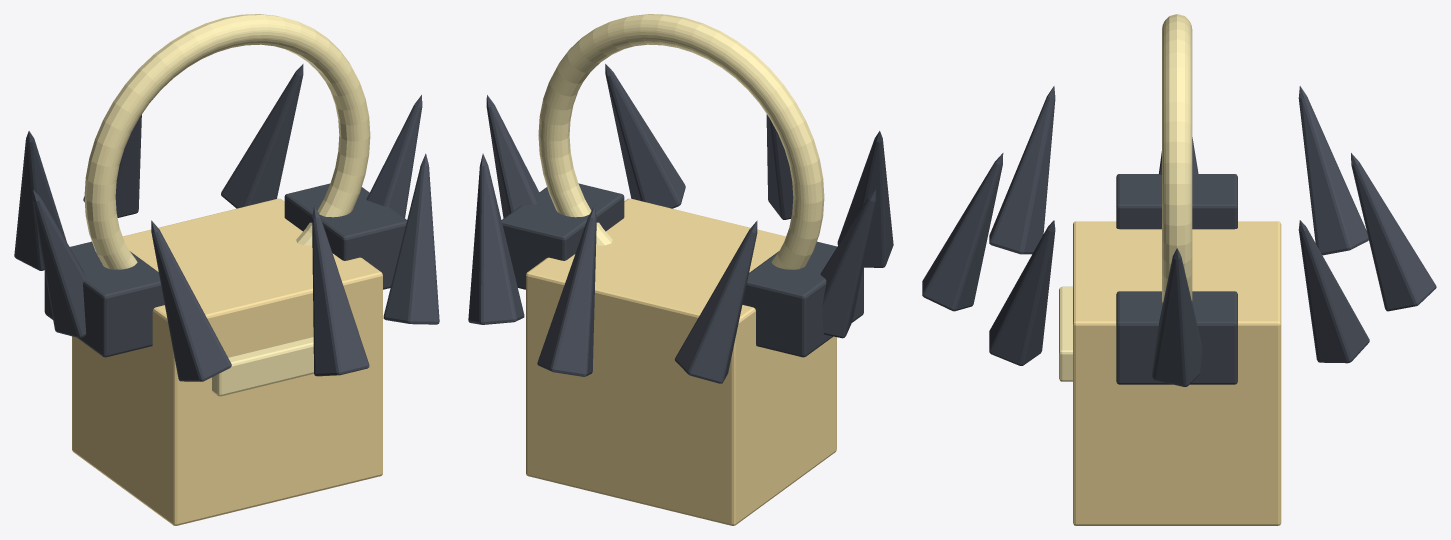
Rendered from SM_Boss_Kurhaus.fbx.
3 renders of one model, left to right at view 1: azimuth 30°, elevation 25°; view 2: azimuth 150°, elevation 25°; view 3: azimuth 270°, elevation 25°, orthographic.
Visible parts, largest first — view 1: SM_Boss_Kurhaus; view 2: SM_Boss_Kurhaus; view 3: SM_Boss_Kurhaus.
Boxes of the visible parts, x1,y1,x2,y2 form: SM_Boss_Kurhaus: (14,14,439,525); SM_Boss_Kurhaus: (468,14,893,525); SM_Boss_Kurhaus: (922,14,1436,525).
Bounding box in the file's own units: 2.84 × 3.11 × 3.25.
